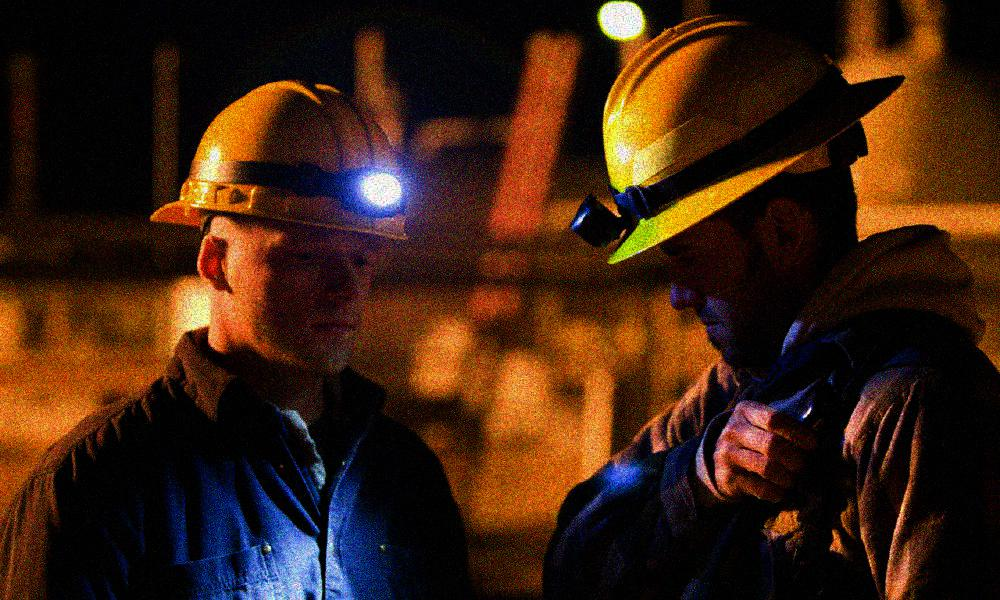helmet: (602, 16, 907, 355), (147, 77, 409, 377)
